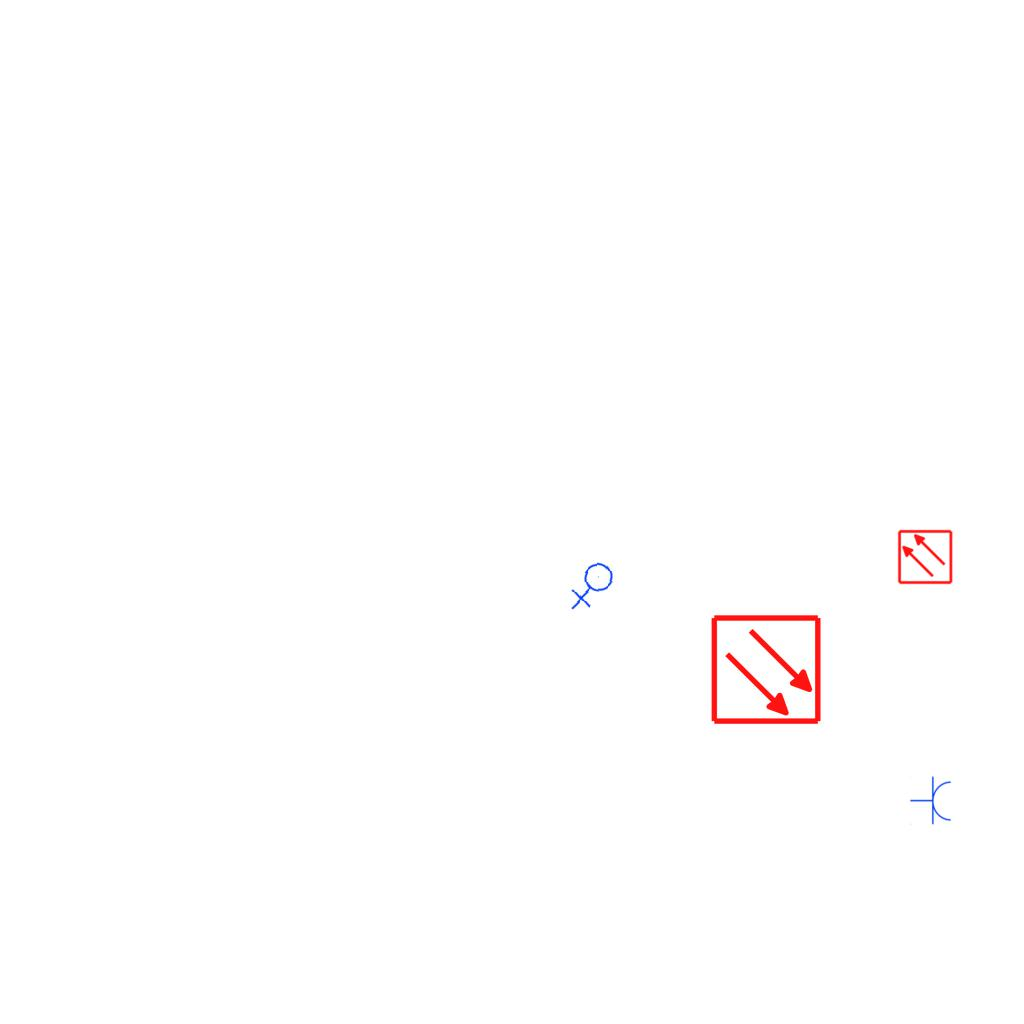Elektroanschluss_allgemein_230V_Geraeteanschlussdose_230V: (566, 560, 621, 613)
RMO_Rauchmelder_optischer: (710, 613, 823, 726), (897, 529, 953, 585)
Schukosteckdose_einfach: (910, 776, 953, 826)
